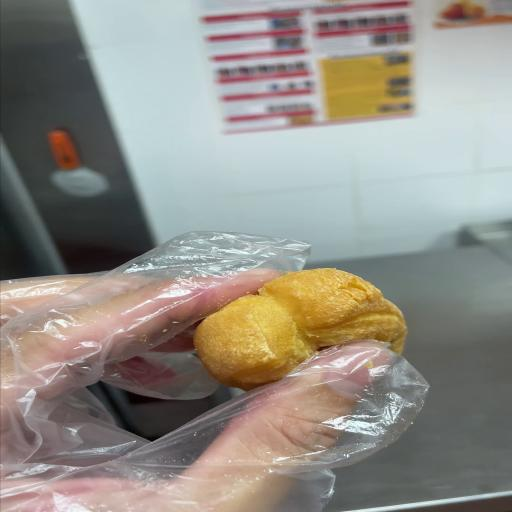brand_golden_good: (194, 269, 406, 389)
